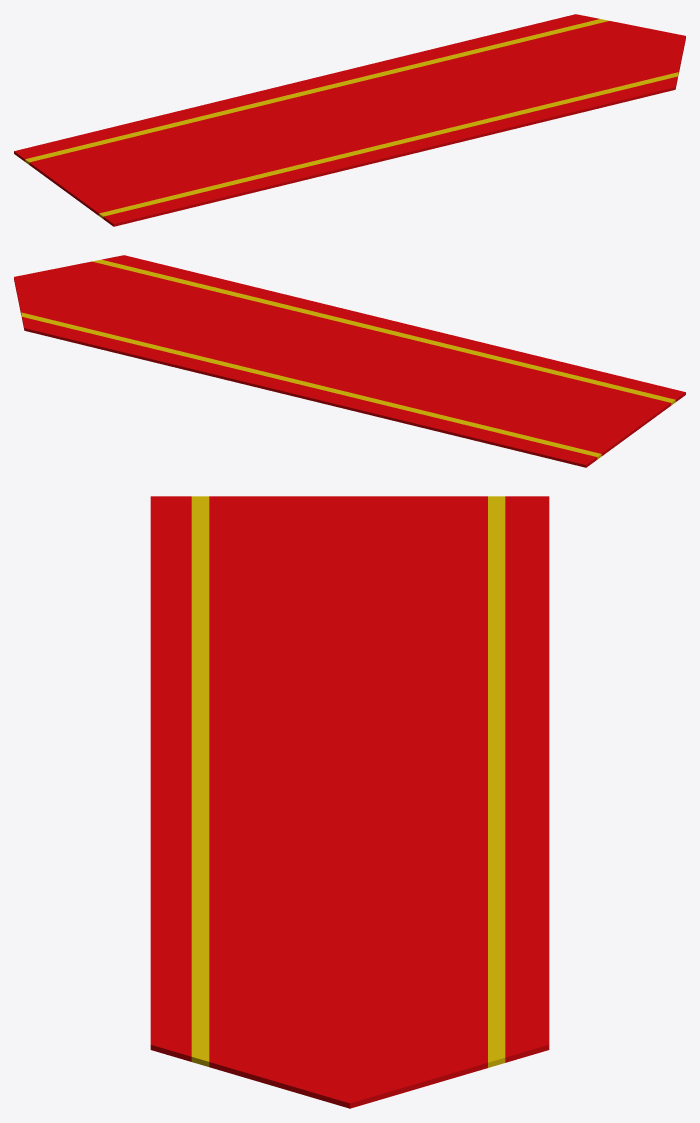
The model's file is catifa.fbx.
3 renders of one model, top to bottom at view 1: azimuth 30°, elevation 25°; view 2: azimuth 150°, elevation 25°; view 3: azimuth 270°, elevation 25°, orthographic. The views are drawn at different scales.
Visible parts, largest first — view 1: Cube; view 2: Cube; view 3: Cube.
Boxes of the visible parts, <box> form: Cube: <box>14,14,685,226</box>; Cube: <box>14,255,685,467</box>; Cube: <box>150,496,549,1108</box>.
Size of the model in its own units: 1467 by 5.98 by 407.
